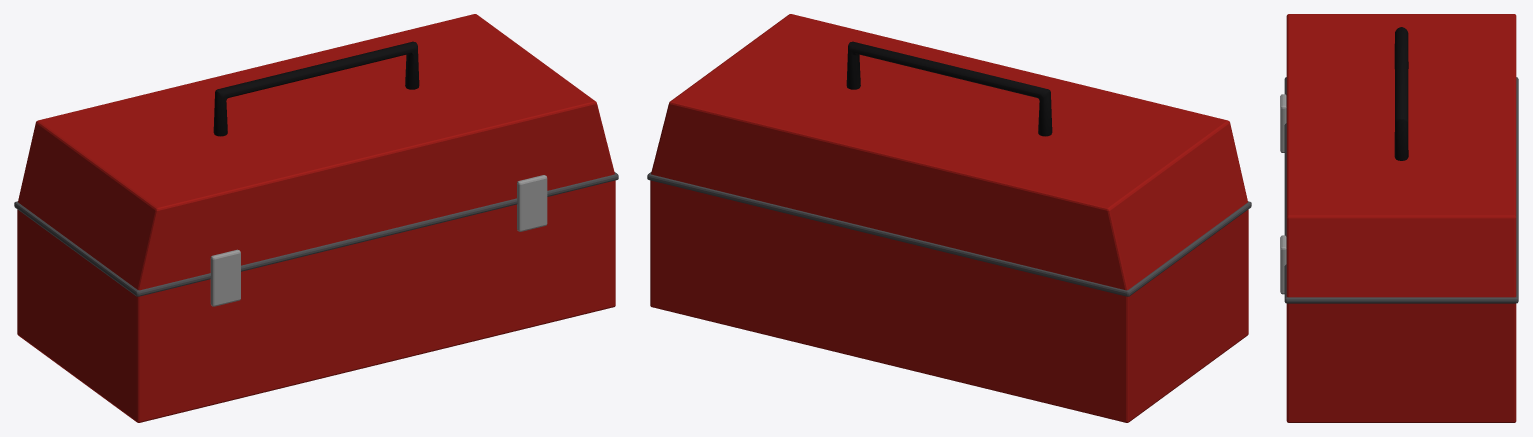
Rendered from toolbox.glb.
The picture shows the model from 3 angles, left to right: view 1: azimuth 30°, elevation 25°; view 2: azimuth 150°, elevation 25°; view 3: azimuth 270°, elevation 25°; orthographic projection. The views are drawn at different scales.
Parts seen in each view (by area): view 1: toolbox; view 2: toolbox; view 3: toolbox.
Part boxes in pixels (x1,y1,x2,y2): toolbox: [14, 14, 618, 422]; toolbox: [647, 14, 1251, 422]; toolbox: [1280, 14, 1518, 422].
Bounding box in the file's own units: 0.504 × 0.2549 × 0.228.
